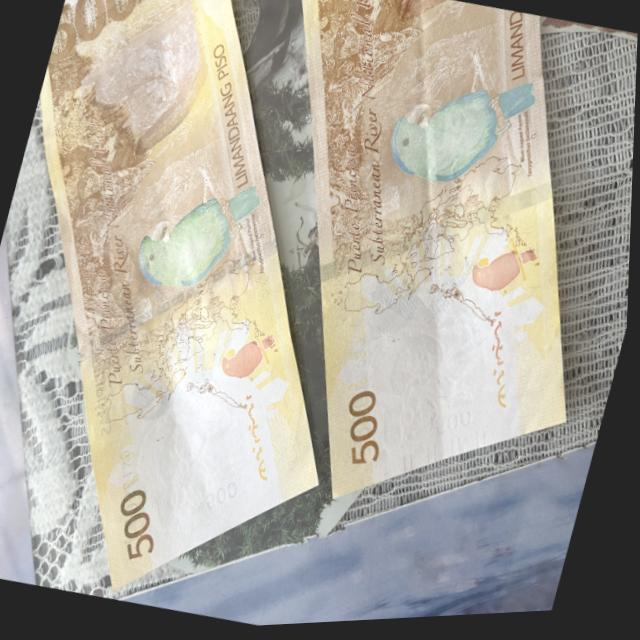500_big_parrot: (384, 57, 540, 204), (130, 161, 265, 312)
500_parrot_watermark: (469, 234, 541, 310), (220, 316, 283, 391)
value_watermark: (432, 406, 478, 454), (201, 473, 245, 518)
watermark: (357, 281, 523, 468), (124, 361, 278, 532)
